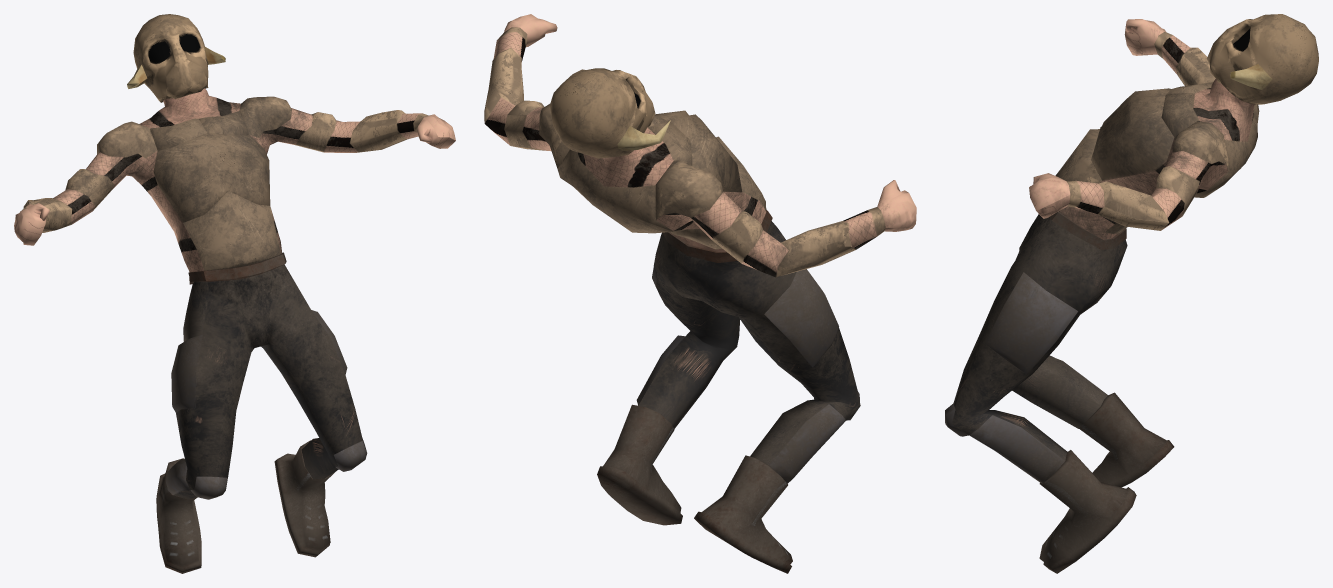
Rendered from Anim_morir_npc1.0018.obj.
3 renders of one model, left to right at view 1: azimuth 30°, elevation 25°; view 2: azimuth 150°, elevation 25°; view 3: azimuth 270°, elevation 25°, orthographic. The views are drawn at different scales.
Parts seen in each view (by area): view 1: NPC2; view 2: NPC2; view 3: NPC2.
Boxes of the visible parts, left/top/right/bottom form: NPC2: left=14, top=14, right=455, bottom=573; NPC2: left=484, top=14, right=916, bottom=573; NPC2: left=945, top=14, right=1318, bottom=573.
Bounding box in the file's own units: 6.63 × 7.68 × 4.91.
